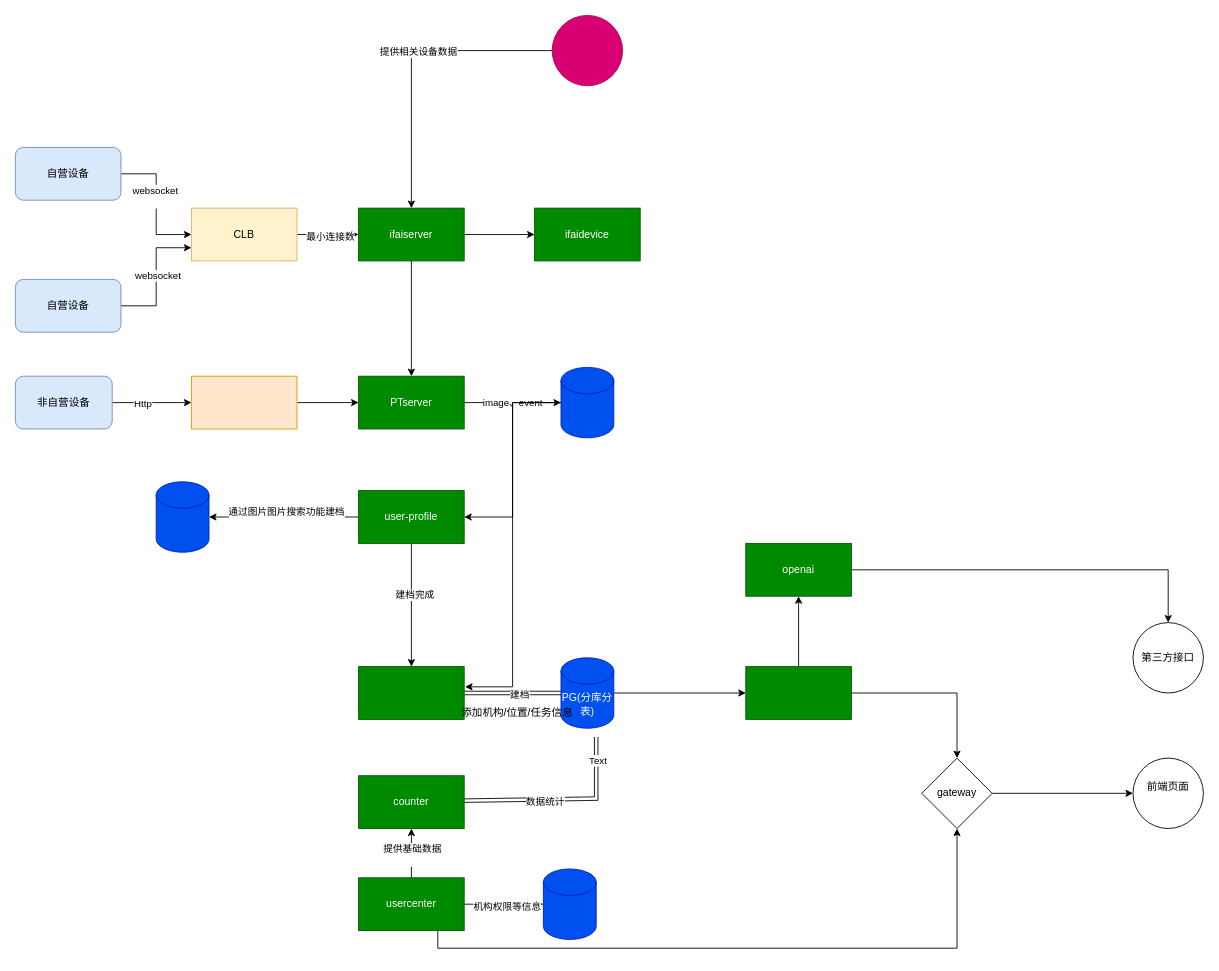
Some shapes in this 1219 by 971 pixel diagram are drawn without their labels. The shapes that lost their labels are listed below. From the top down, each one's centre as x and y in pixels, then its label:
At point (587, 50): "Redis".
At point (244, 402): "nginx".
At point (587, 402): "Kafka".
At point (182, 516): "PG(建档)".
At point (411, 692): "data-snap-flow".
At point (798, 692): "dashboard".
At point (569, 903): "Mysql".
